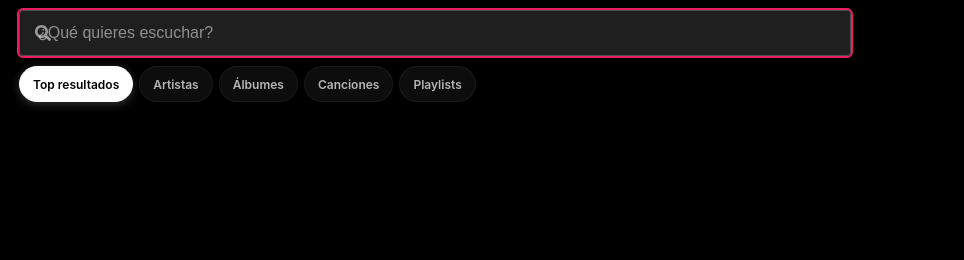
Test: Búsqueda y reproducción esenciales › ignora respuestas antiguas que llegan después de una búsqueda nueva
Type "Primera" into the search field named "Buscar música". click: {"x": 435, "y": 33}
box: x1=19 y1=10 x2=851 y2=56
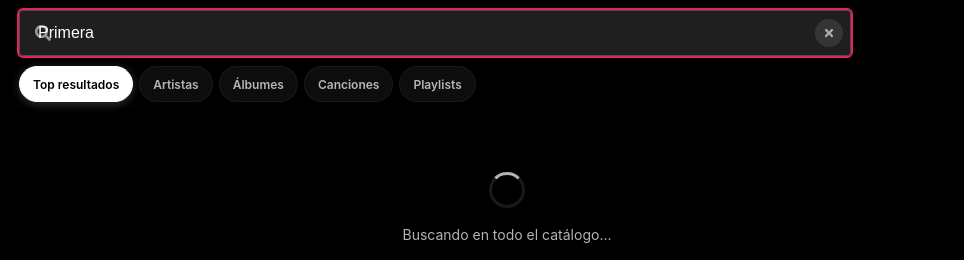
Replace the text in the search field named "Buscar música" with "Segunda". click: {"x": 435, "y": 33}
box: x1=19 y1=10 x2=851 y2=56
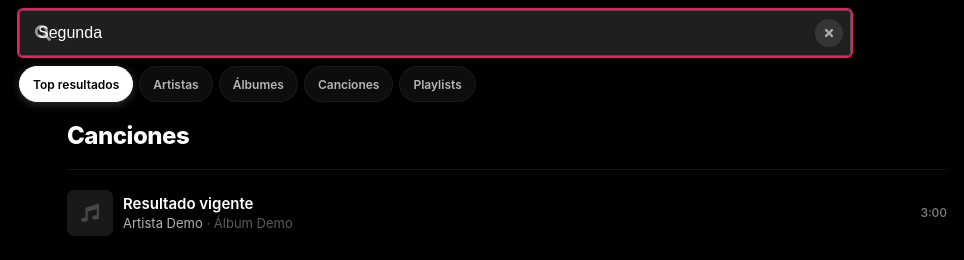
Now the text "Resultado vigente" is shown, box x1=123 y1=194 x2=254 y2=213
